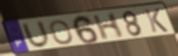6: (71, 14, 100, 45)
8: (121, 10, 144, 37)
H: (91, 11, 125, 42)
K: (143, 7, 170, 34)
O: (49, 19, 75, 46)
U: (20, 19, 52, 50)
